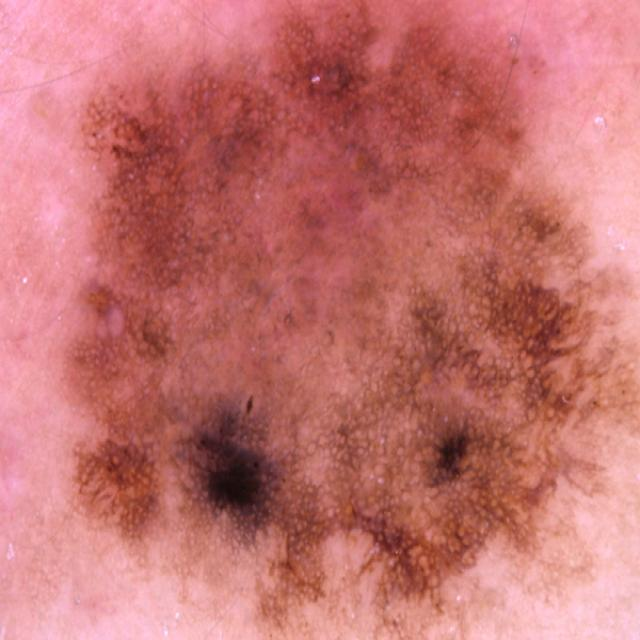NV: (55, 0, 639, 639)
